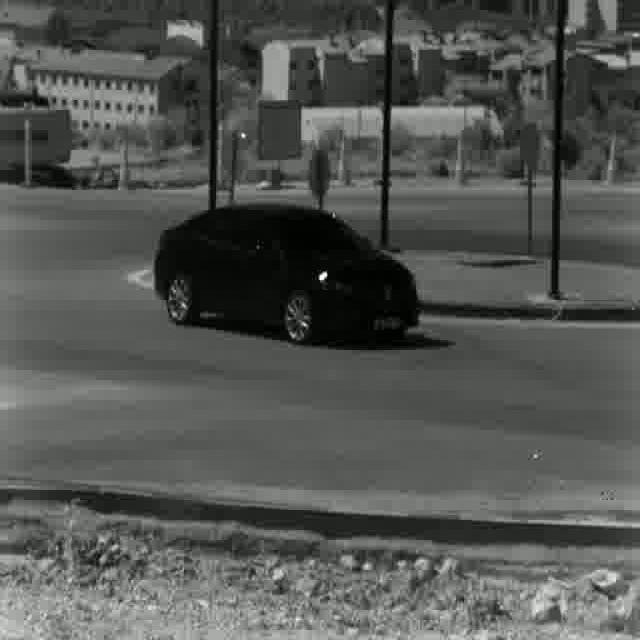Car: (155, 204, 418, 350)
